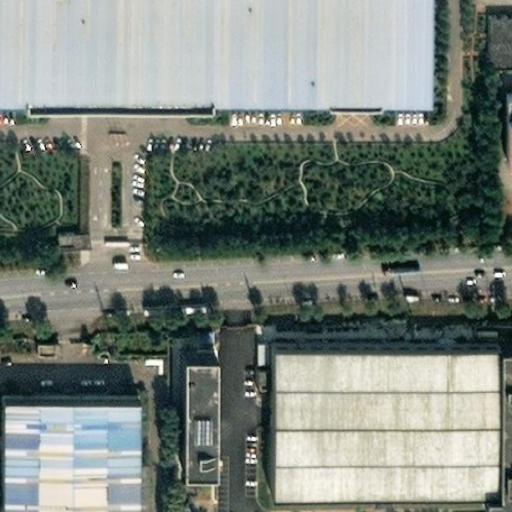building: (257, 326, 512, 493), (0, 394, 126, 512), (168, 333, 201, 448), (489, 86, 512, 157), (142, 299, 213, 321), (475, 7, 512, 49), (52, 227, 88, 249), (35, 337, 59, 353)
